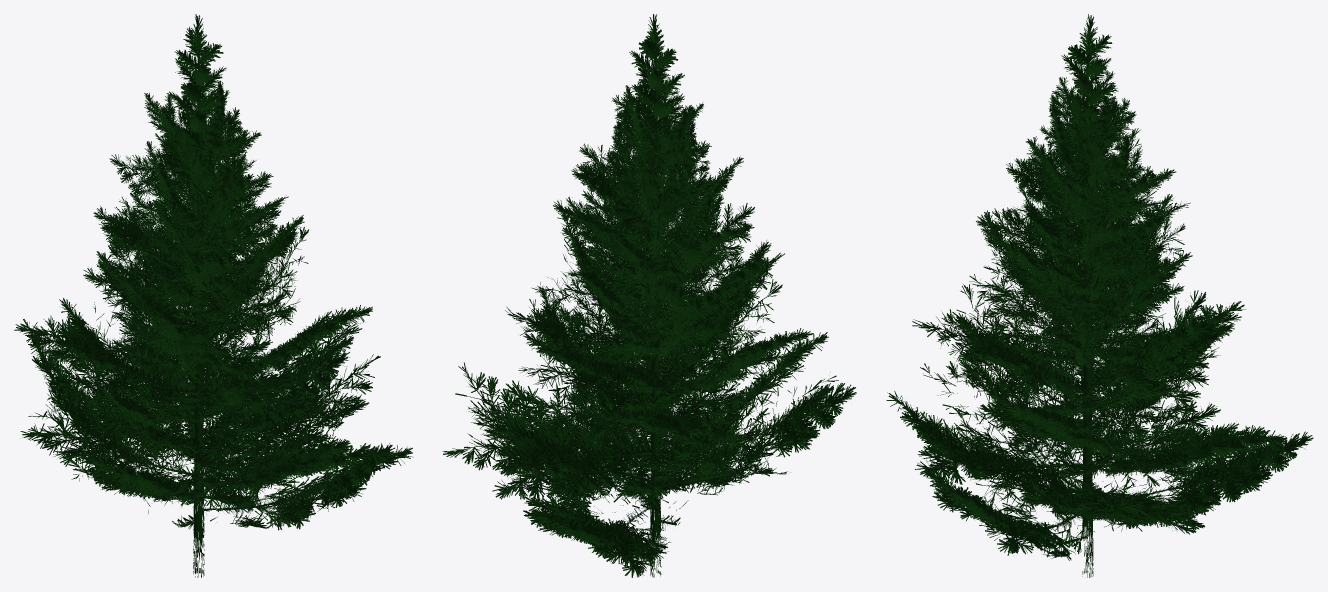
The model's file is tree2.glb.
3 renders of one model, left to right at view 1: azimuth 30°, elevation 25°; view 2: azimuth 150°, elevation 25°; view 3: azimuth 270°, elevation 25°, orthographic.
Bounding box in the file's own units: 2.08 × 3.24 × 2.24.
